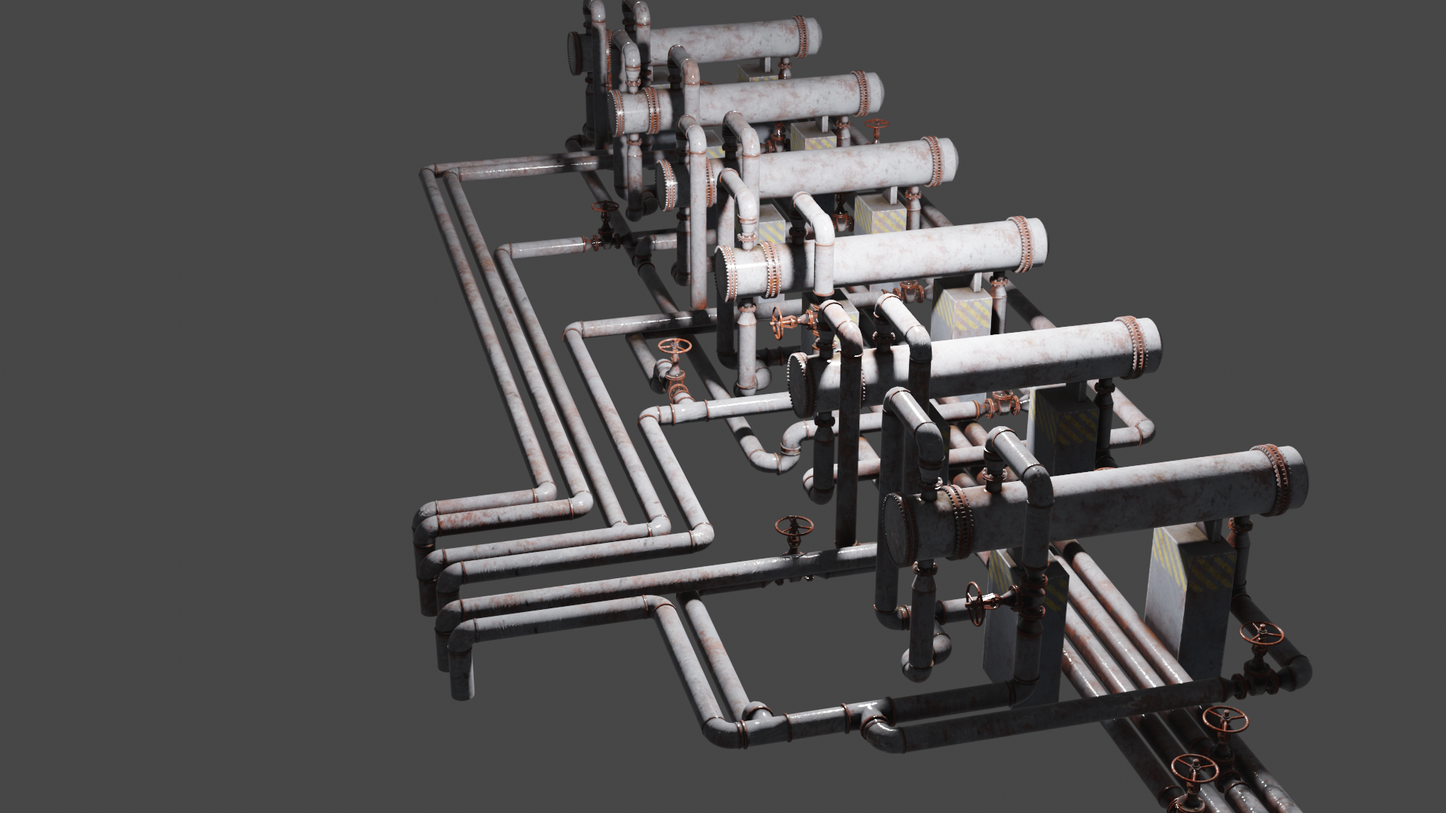HE_1: (567, 15, 825, 74)
HE_2: (602, 71, 882, 141)
HE_3: (653, 132, 960, 213)
HE_4: (712, 215, 1050, 305)
HE_5: (785, 315, 1164, 415)
HE_6: (875, 443, 1305, 564)
